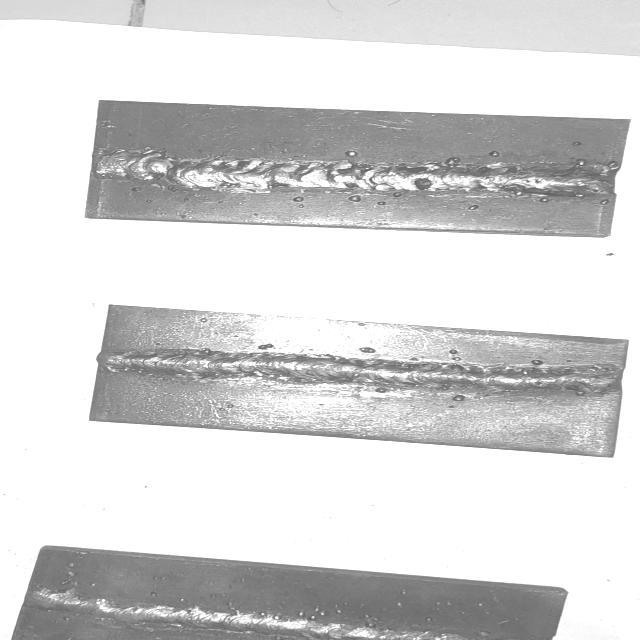Defect: (95, 140, 213, 198), (568, 141, 620, 207)
Welding Line: (30, 586, 462, 640), (95, 152, 618, 195), (109, 352, 610, 390)
Workpiece: (83, 302, 630, 462), (79, 94, 632, 243), (7, 540, 570, 640)
